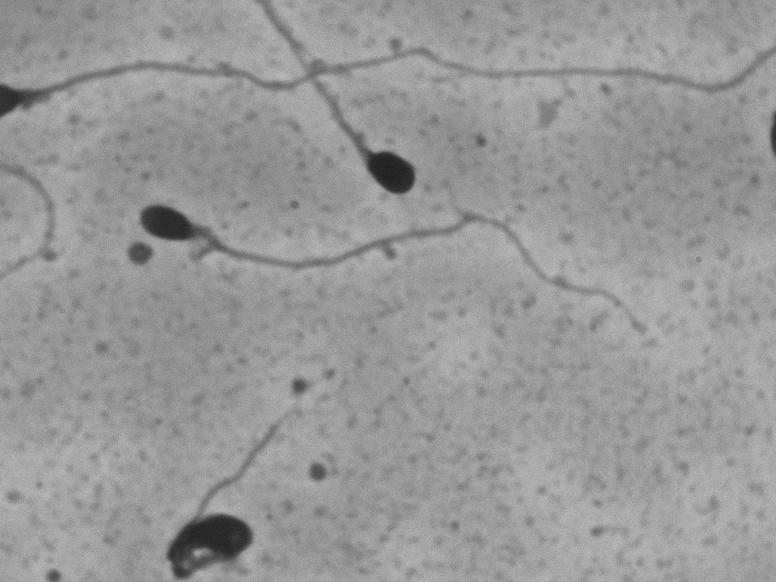Abnormal: (277, 20, 452, 205), (140, 410, 299, 576)
Normal: (122, 187, 658, 347)
